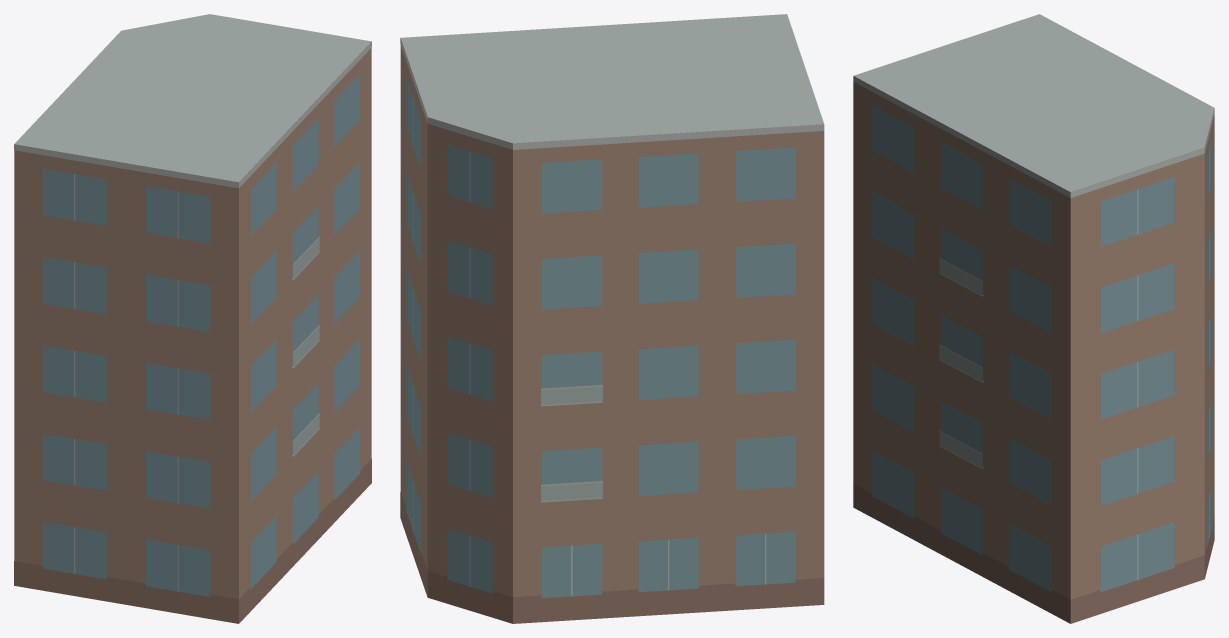
Rendered from survey-upis-32953554.glb.
3 renders of one model, left to right at view 1: azimuth 30°, elevation 25°; view 2: azimuth 150°, elevation 25°; view 3: azimuth 270°, elevation 25°, orthographic. The views are drawn at different scales.
Parts seen in each view (by area): view 1: survey-upis-32953554.tmp; view 2: survey-upis-32953554.tmp; view 3: survey-upis-32953554.tmp.
Boxes of the visible parts, x1,y1,x2,y2 form: survey-upis-32953554.tmp: [14, 14, 371, 623]; survey-upis-32953554.tmp: [400, 14, 824, 623]; survey-upis-32953554.tmp: [853, 14, 1214, 623].
Size of the model in its own units: 15.72 by 17.75 by 13.47.
